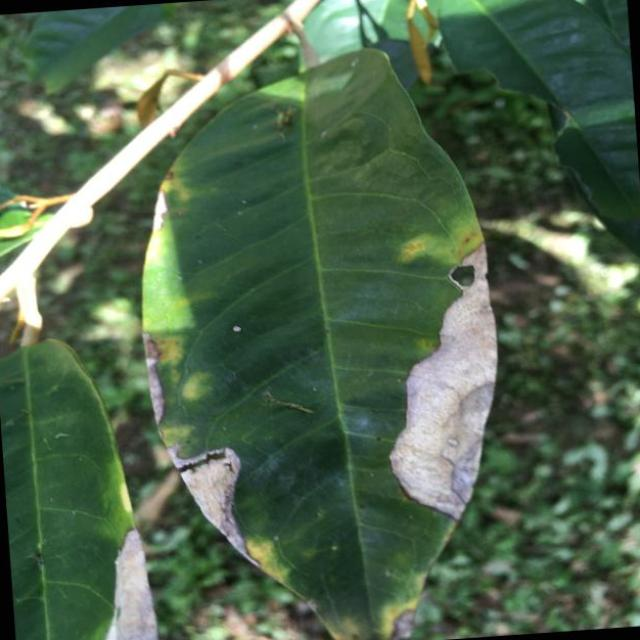Leaf Blight: (115, 30, 533, 640)
